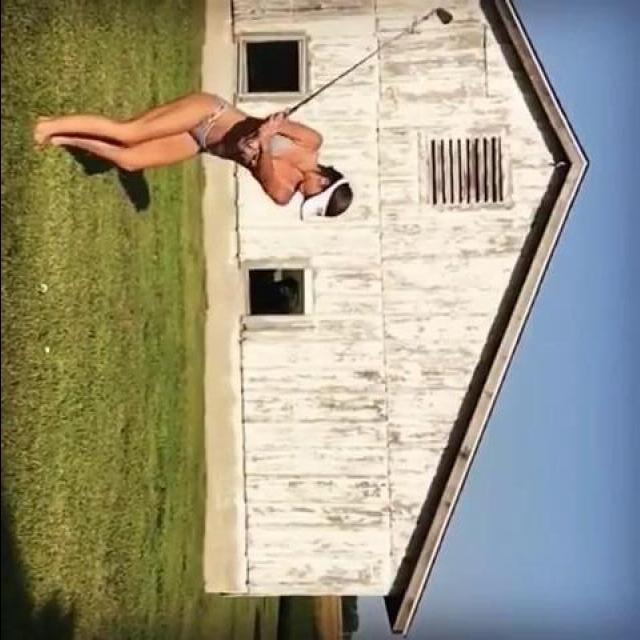ClubHandle: (232, 4, 454, 161)
ClubHead: (433, 3, 455, 25)
GolfBall: (37, 279, 48, 295)
